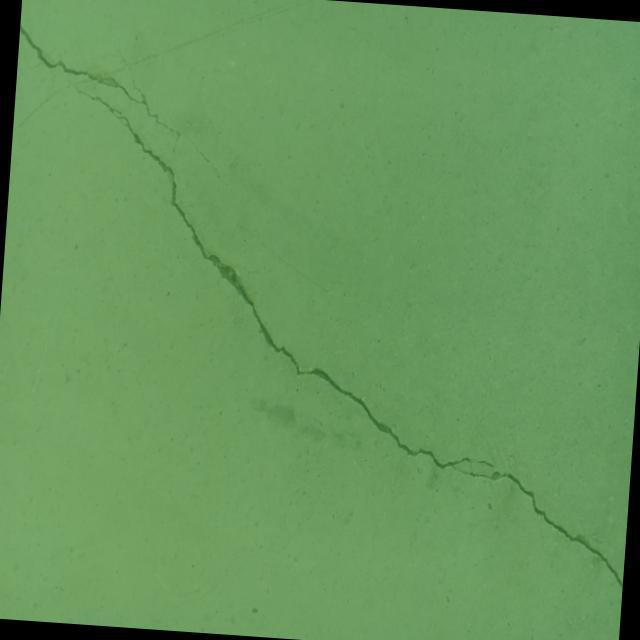crack: (35, 80, 640, 589), (10, 21, 234, 182)
